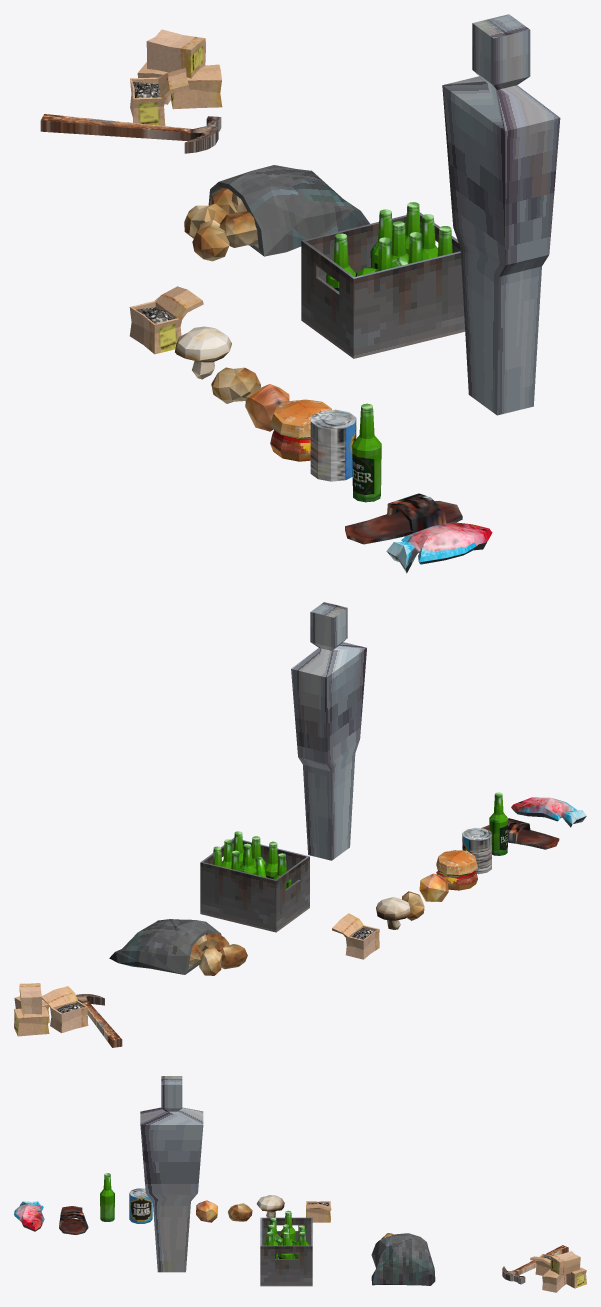
Rendered from soup-burger.glb.
3 views of the same model, one above another, from view 1: azimuth 30°, elevation 25°; view 2: azimuth 150°, elevation 25°; view 3: azimuth 270°, elevation 25° (orthographic). The views are drawn at different scales.
Visible parts, largest first — view 1: HumanSizeRef-noimp, Plane, Plane.001, Plane.002, soup-sandal, soup-fish, soup-beans, soup-nails, soup-burger, soup-beer, soup-nails.004, soup-nails.001 (+7 smaller); view 2: HumanSizeRef-noimp, Plane, Plane.001, soup-nails.001, soup-burger, soup-nails, soup-fish, soup-beans, soup-sandal, soup-beer, Plane.002, soup-nails.002 (+3 smaller); view 3: HumanSizeRef-noimp, Plane.001, Plane, soup-beans, soup-sandal, soup-fish, soup-beer, soup-nails.004, Plane.002, soup-nails, soup-shroom, soup-nails.003 (+4 smaller).
Boxes of the visible parts, x1=… form: HumanSizeRef-noimp: x1=442, y1=14, x2=560, y2=415; Plane: x1=301, y1=212, x2=465, y2=358; Plane.001: x1=208, y1=165, x2=369, y2=256; Plane.002: x1=40, y1=114, x2=221, y2=153; soup-sandal: x1=345, y1=493, x2=462, y2=544; soup-fish: x1=386, y1=522, x2=492, y2=573; soup-beans: x1=310, y1=409, x2=356, y2=481; soup-nails: x1=129, y1=286, x2=203, y2=354; soup-burger: x1=270, y1=399, x2=331, y2=461; soup-beer: x1=352, y1=403, x2=381, y2=502; soup-nails.004: x1=146, y1=29, x2=205, y2=78; soup-nails.001: x1=130, y1=68, x2=189, y2=125; HumanSizeRef-noimp: x1=291, y1=602, x2=366, y2=860; Plane: x1=200, y1=838, x2=309, y2=932; Plane.001: x1=109, y1=919, x2=221, y2=974; soup-nails.001: x1=41, y1=986, x2=88, y2=1033; soup-burger: x1=436, y1=850, x2=477, y2=890; soup-nails: x1=332, y1=913, x2=379, y2=959; soup-fish: x1=511, y1=797, x2=586, y2=827; soup-beans: x1=462, y1=828, x2=491, y2=874; soup-sandal: x1=481, y1=818, x2=559, y2=849; soup-beer: x1=489, y1=792, x2=508, y2=855; Plane.002: x1=76, y1=994, x2=122, y2=1047; soup-nails.002: x1=14, y1=1006, x2=49, y2=1036; HumanSizeRef-noimp: x1=140, y1=1076, x2=203, y2=1272; Plane.001: x1=371, y1=1233, x2=435, y2=1285; Plane: x1=260, y1=1217, x2=312, y2=1286; soup-beans: x1=129, y1=1188, x2=152, y2=1223; soup-sandal: x1=59, y1=1206, x2=88, y2=1234; soup-fish: x1=14, y1=1201, x2=44, y2=1231; soup-beer: x1=100, y1=1173, x2=114, y2=1221; soup-nails.004: x1=550, y1=1251, x2=580, y2=1275; Plane.002: x1=502, y1=1245, x2=568, y2=1284; soup-nails: x1=306, y1=1201, x2=331, y2=1222; soup-shroom: x1=256, y1=1195, x2=284, y2=1217; soup-nails.003: x1=542, y1=1269, x2=566, y2=1292.
Size of the model in its own units: 1.79 by 1.84 by 4.99.
4 materials, 4 textured.
